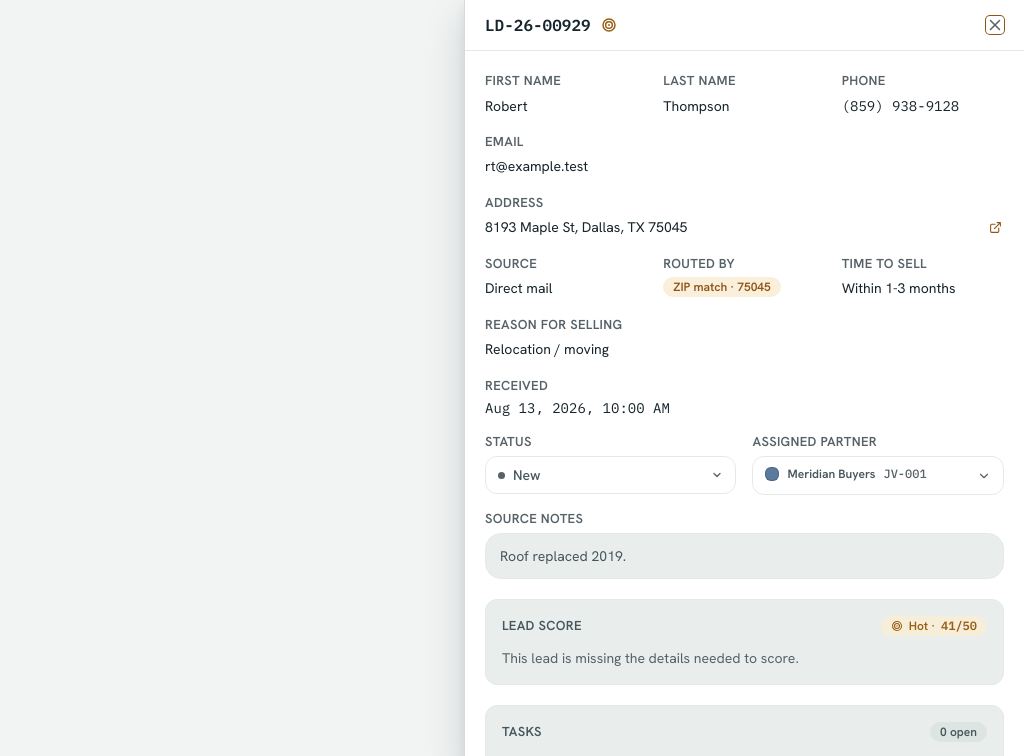
Test: N5-11: optimistic paint, rollback, and the retry toast › N5-11: the toast's Retry reopens the field with the text that failed
Click the button named "Phone:": (912, 106) [842,94,983,118]
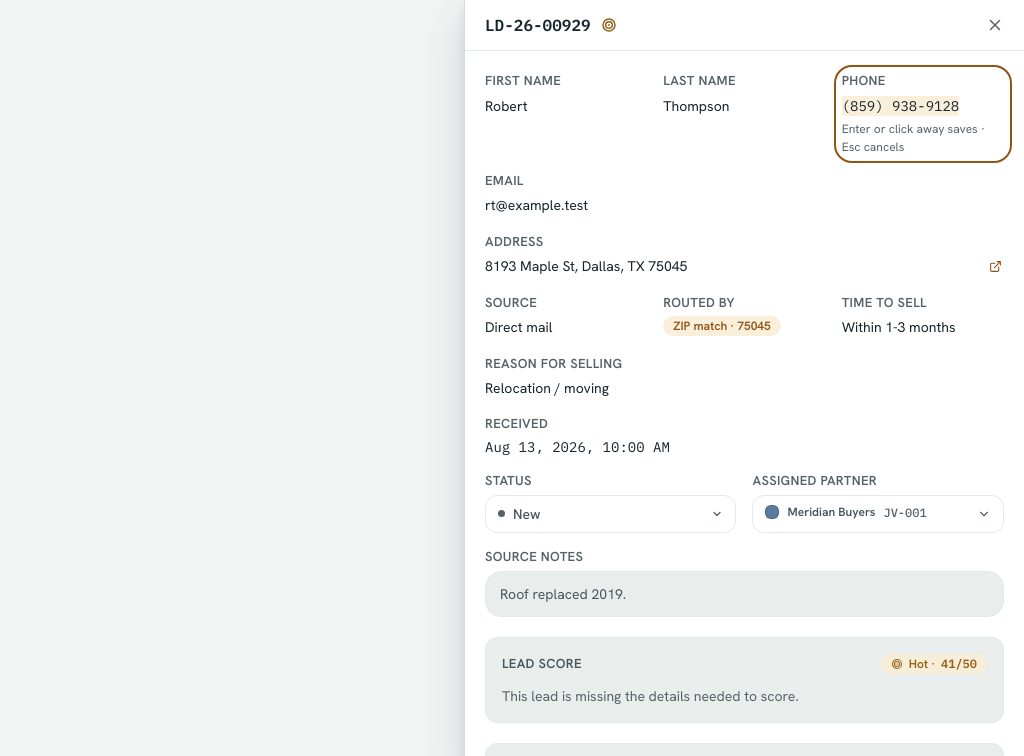
Type keys "(918) 555-0170"
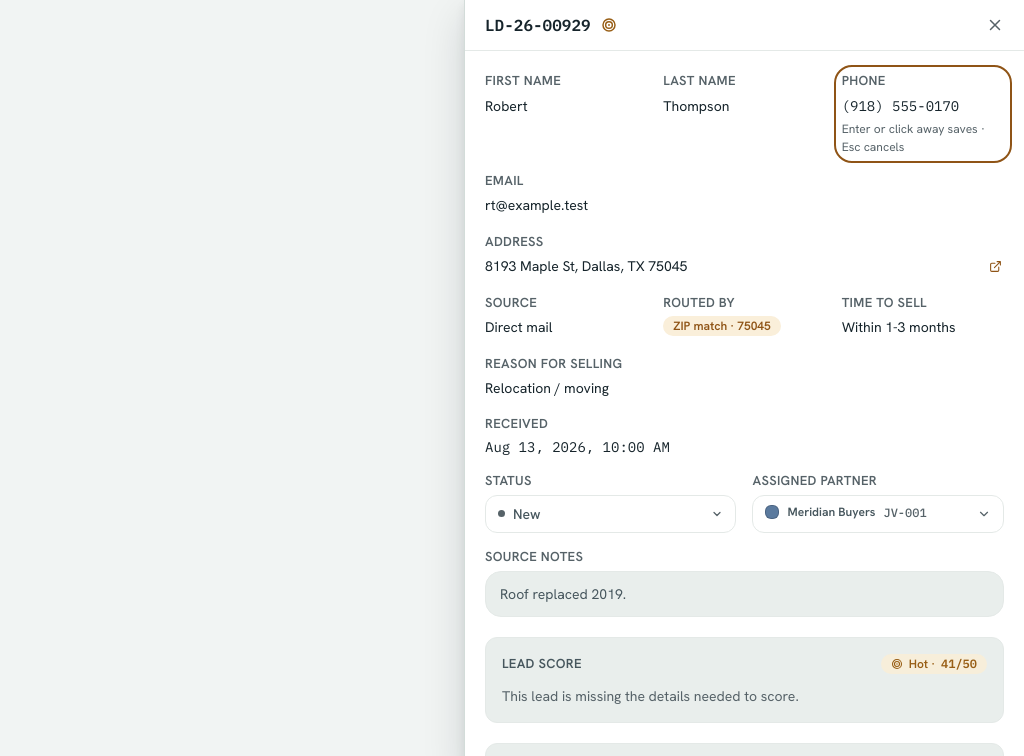
Press Enter
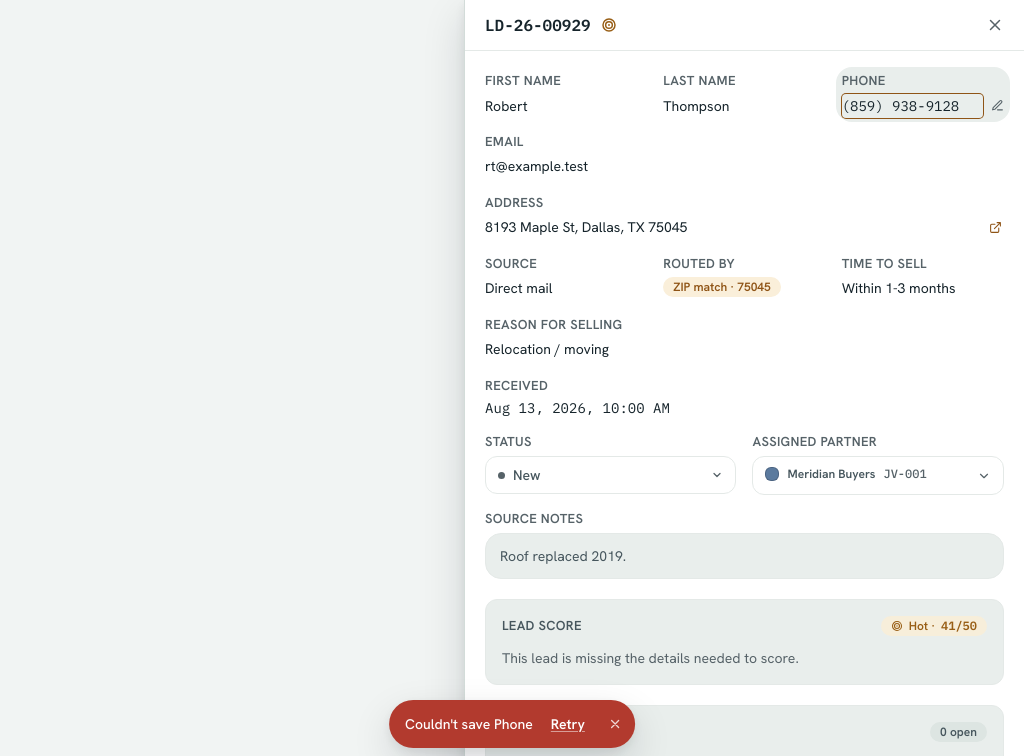
Click the button "Retry": (568, 724) [541,710,595,738]
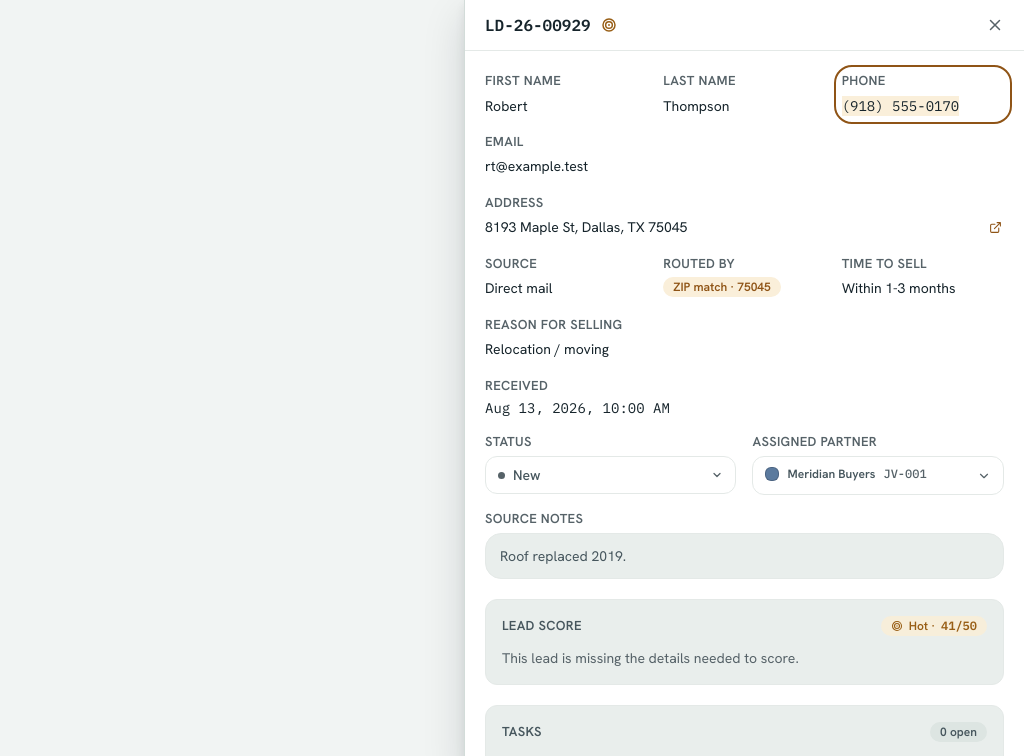
Check: the field named "Phone" holds "(918) 555-0170", box [842,96,1004,116]
